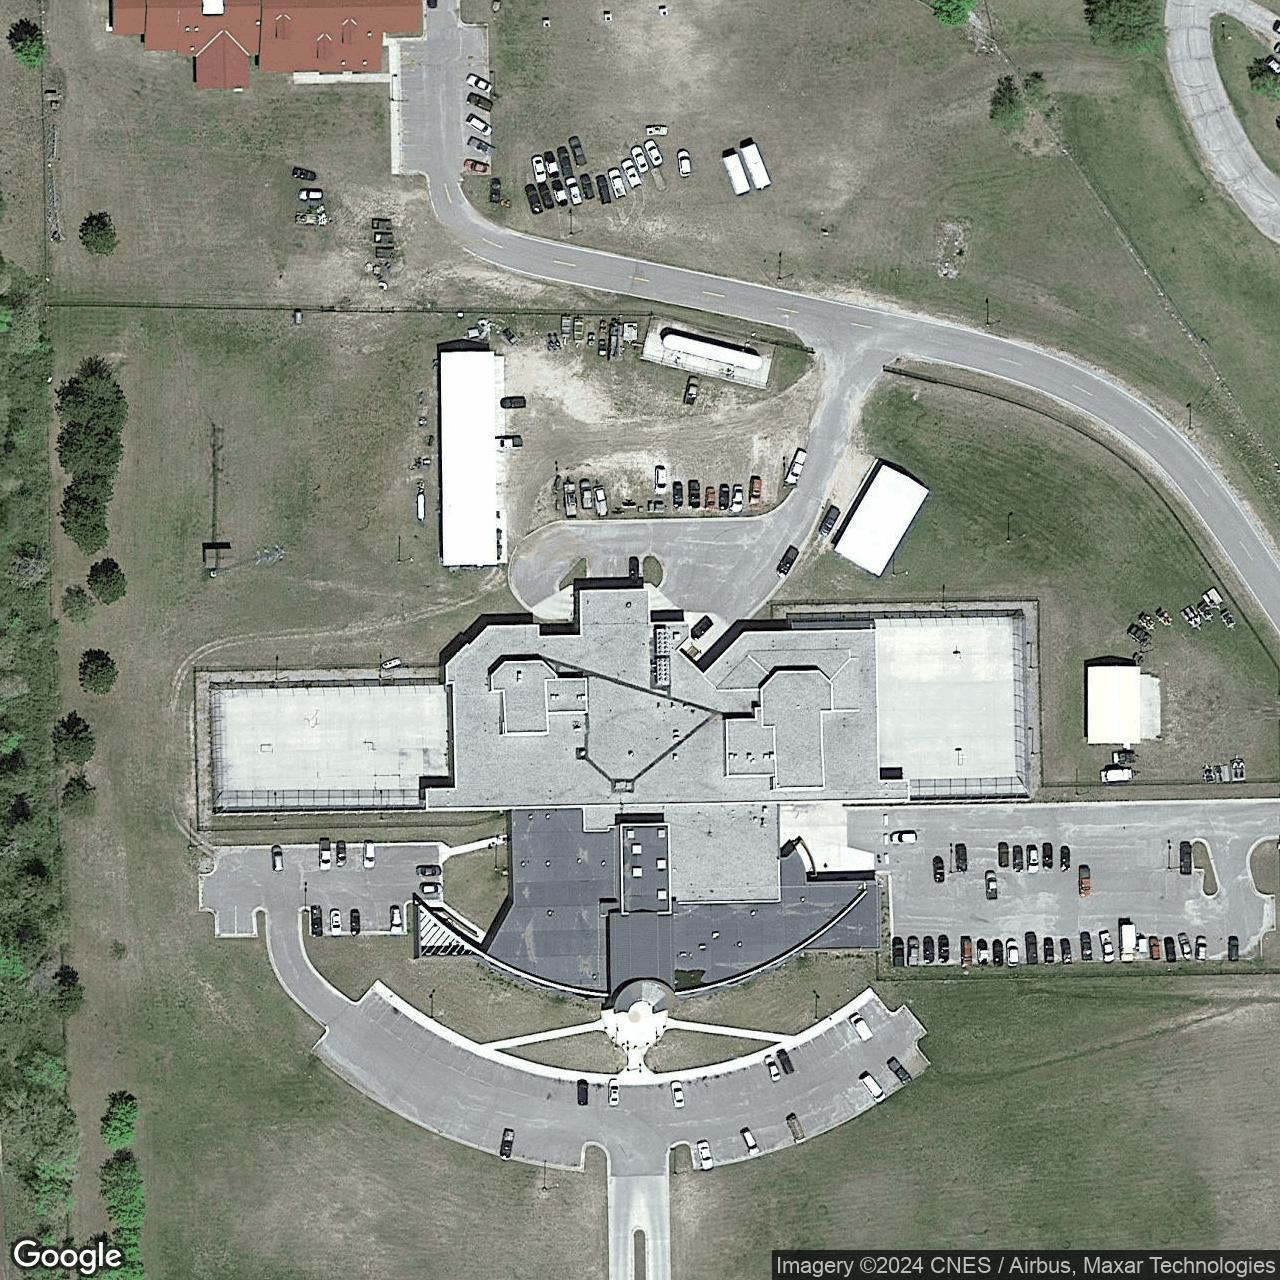Other: (413, 587, 911, 1015), (109, 1, 423, 90), (440, 349, 498, 567), (831, 462, 931, 580), (1087, 663, 1142, 747)
Propane: (658, 324, 767, 374), (415, 491, 427, 522)
